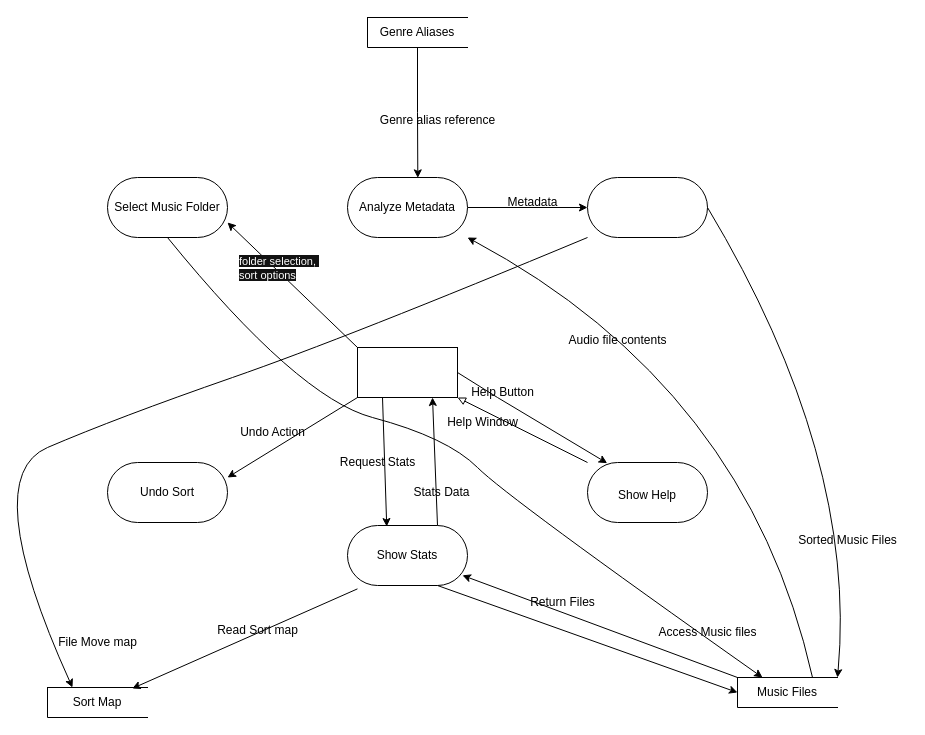
Some shapes in this 925 by 735 pixel diagram are drawn without their labels. Here are the shapes that lost their labels. From the top down, the box of each, then its label:
(586, 176, 708, 238): Sort Files
(356, 346, 458, 398): User
